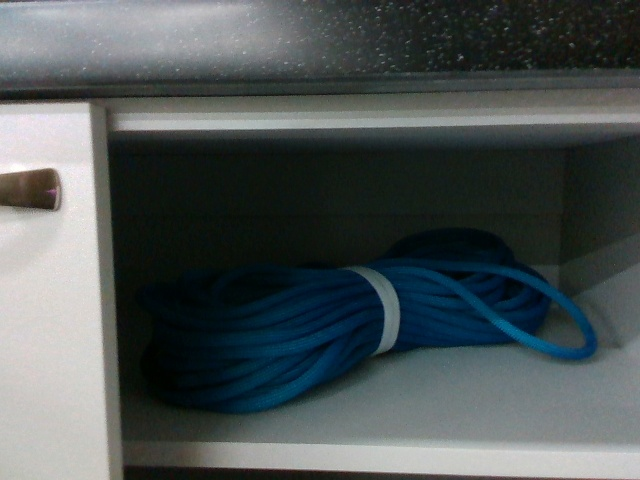rope: (134, 222, 605, 413)
